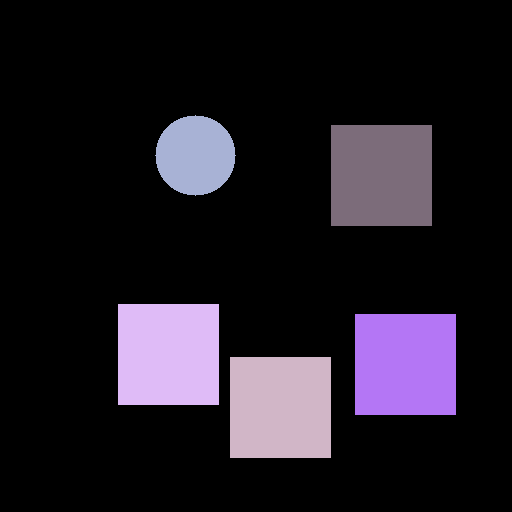circle: (155, 115, 235, 195)
square: (230, 357, 330, 457), (355, 314, 455, 414), (118, 304, 218, 404), (331, 125, 431, 225)
